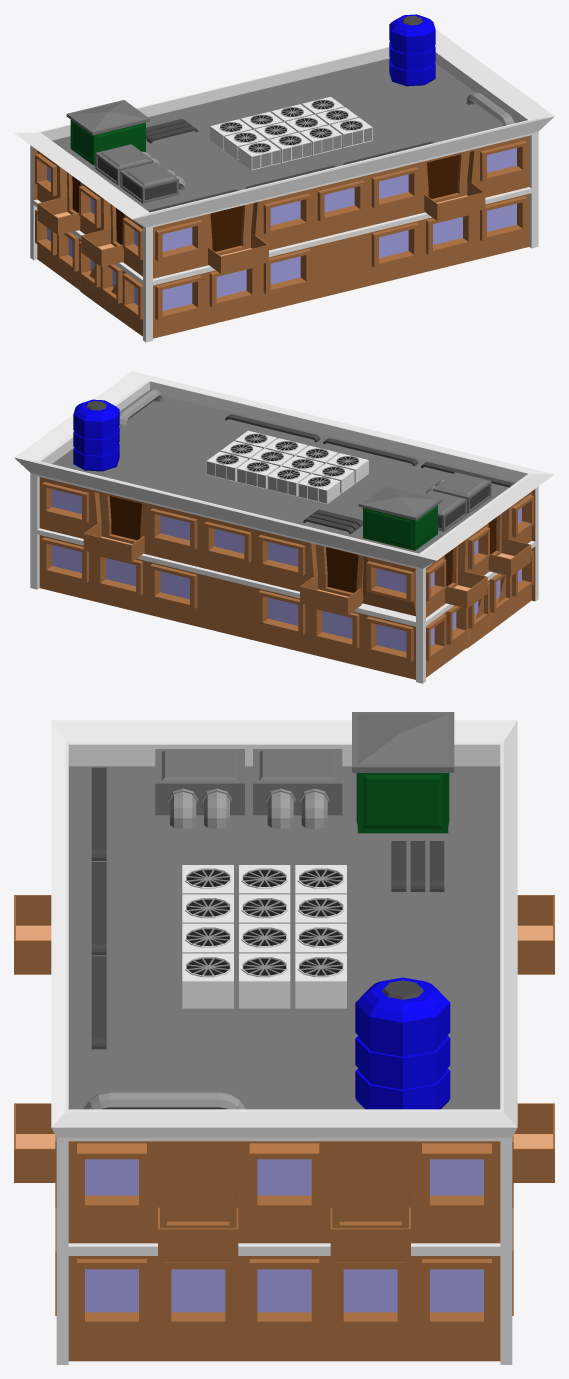
File: Apartment Brown Top.FBX
3 views of the same model, one above another, from view 1: azimuth 30°, elevation 25°; view 2: azimuth 150°, elevation 25°; view 3: azimuth 270°, elevation 25° (orthographic). The views are drawn at different scales.
Visible parts, largest first — view 1: Apartment brown top; view 2: Apartment brown top; view 3: Apartment brown top.
Boxes of the visible parts, bbox=[...] form: Apartment brown top: bbox=[14, 14, 554, 342]; Apartment brown top: bbox=[14, 371, 554, 683]; Apartment brown top: bbox=[14, 712, 554, 1364].
Bounding box in the file's own units: 1231 × 471 × 680.
Materials: 1 (1 with a texture image).
